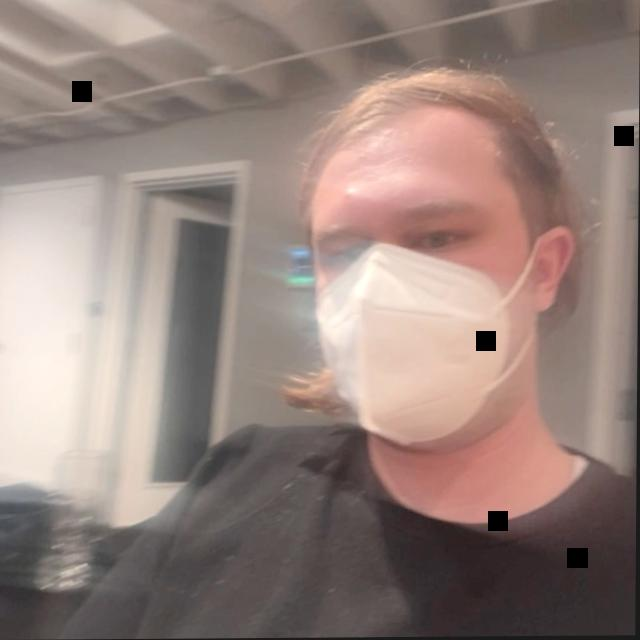Mask: (275, 45, 614, 521)
